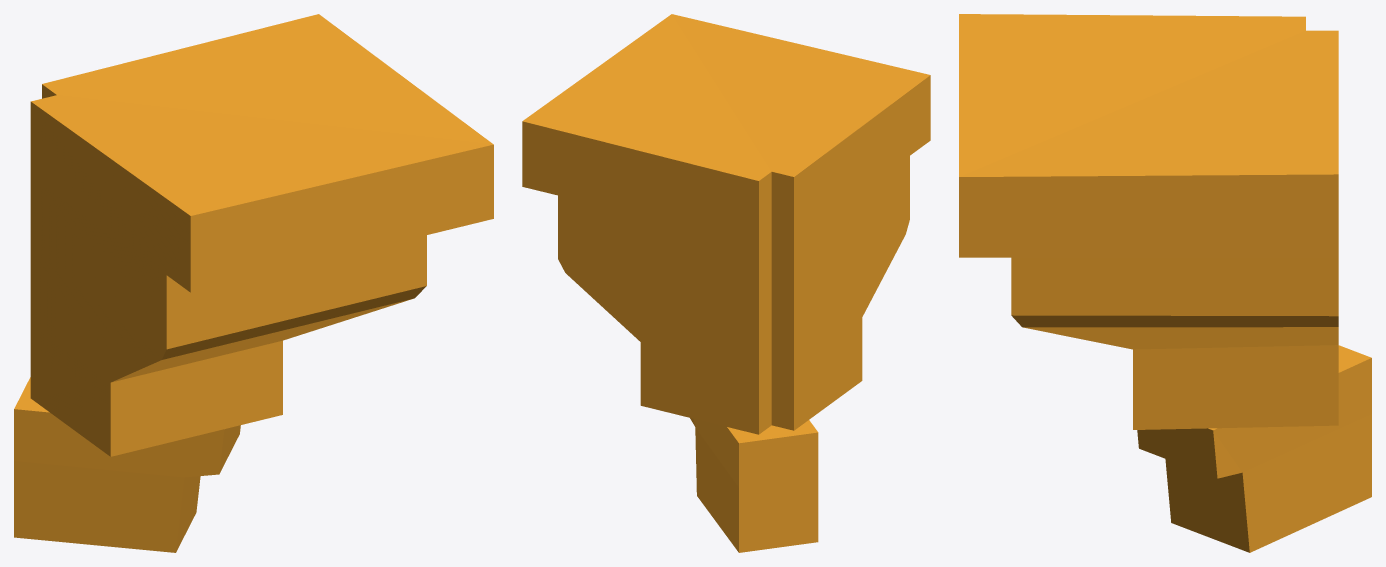
File: SM_Machicolations_Corner_B_Fantasy.fbx
3 views of the same model, side by side, from view 1: azimuth 30°, elevation 25°; view 2: azimuth 150°, elevation 25°; view 3: azimuth 270°, elevation 25° (orthographic). The views are drawn at different scales.
Visible parts, largest first — view 1: SM_Machicolations_Corner_B_Fantasy; view 2: SM_Machicolations_Corner_B_Fantasy; view 3: SM_Machicolations_Corner_B_Fantasy.
Part boxes in pixels (x1,y1,x2,y2): SM_Machicolations_Corner_B_Fantasy: (14, 14, 493, 552); SM_Machicolations_Corner_B_Fantasy: (522, 14, 930, 552); SM_Machicolations_Corner_B_Fantasy: (959, 14, 1371, 552).
Bounding box in the file's own units: 1.38 × 1.73 × 1.39.
